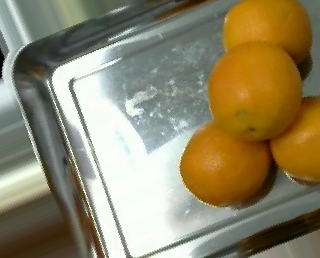Orange: (205, 38, 302, 141), (180, 116, 272, 207), (220, 1, 311, 73), (271, 96, 320, 183)
